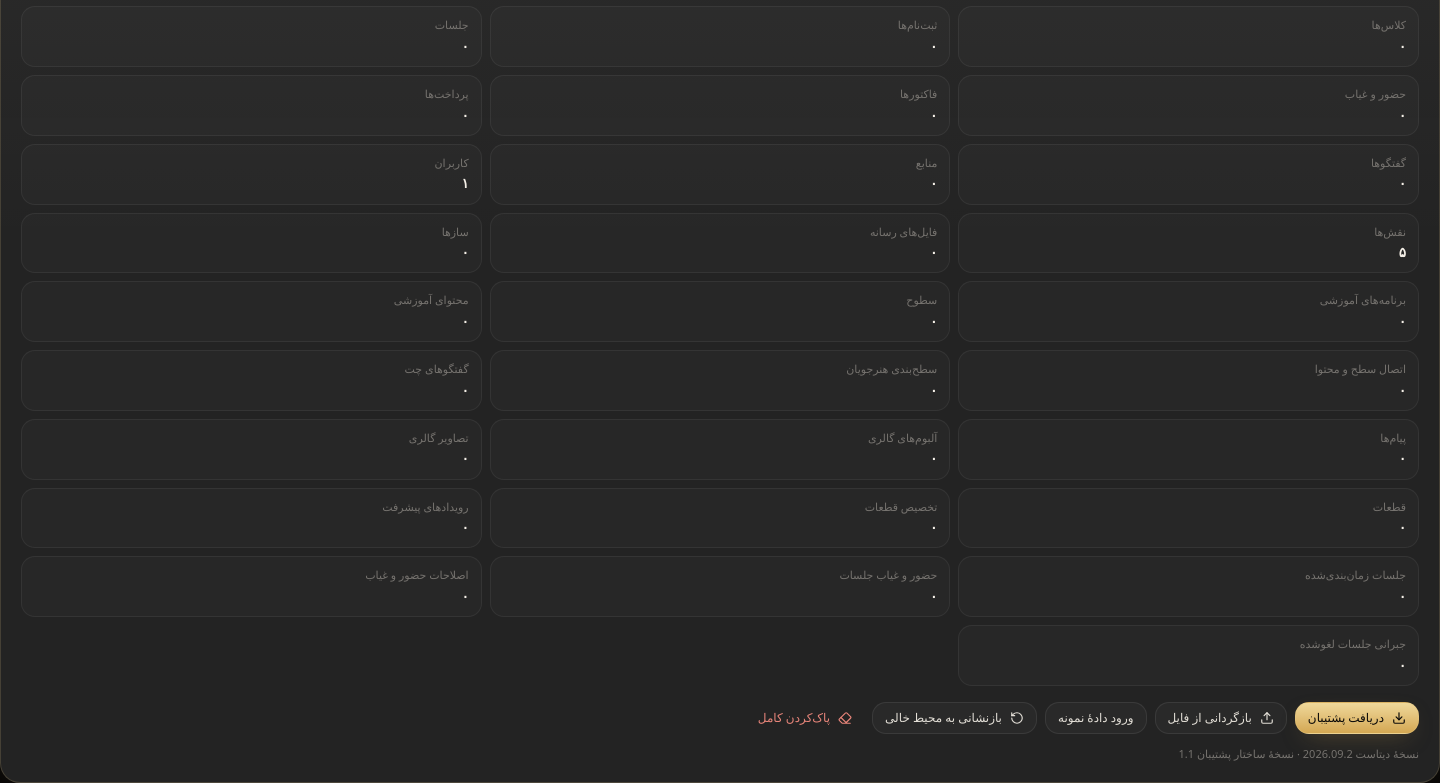
Test: in a customer's EMPTY environment › confirms a clear in terms of this environment, not of demo data
The width and height of the screenshot is (1440, 783).
(page scrolled)
Click the button "پاک‌کردن کامل".
click(805, 718)  # box [746,702,864,734]
(page scrolled)
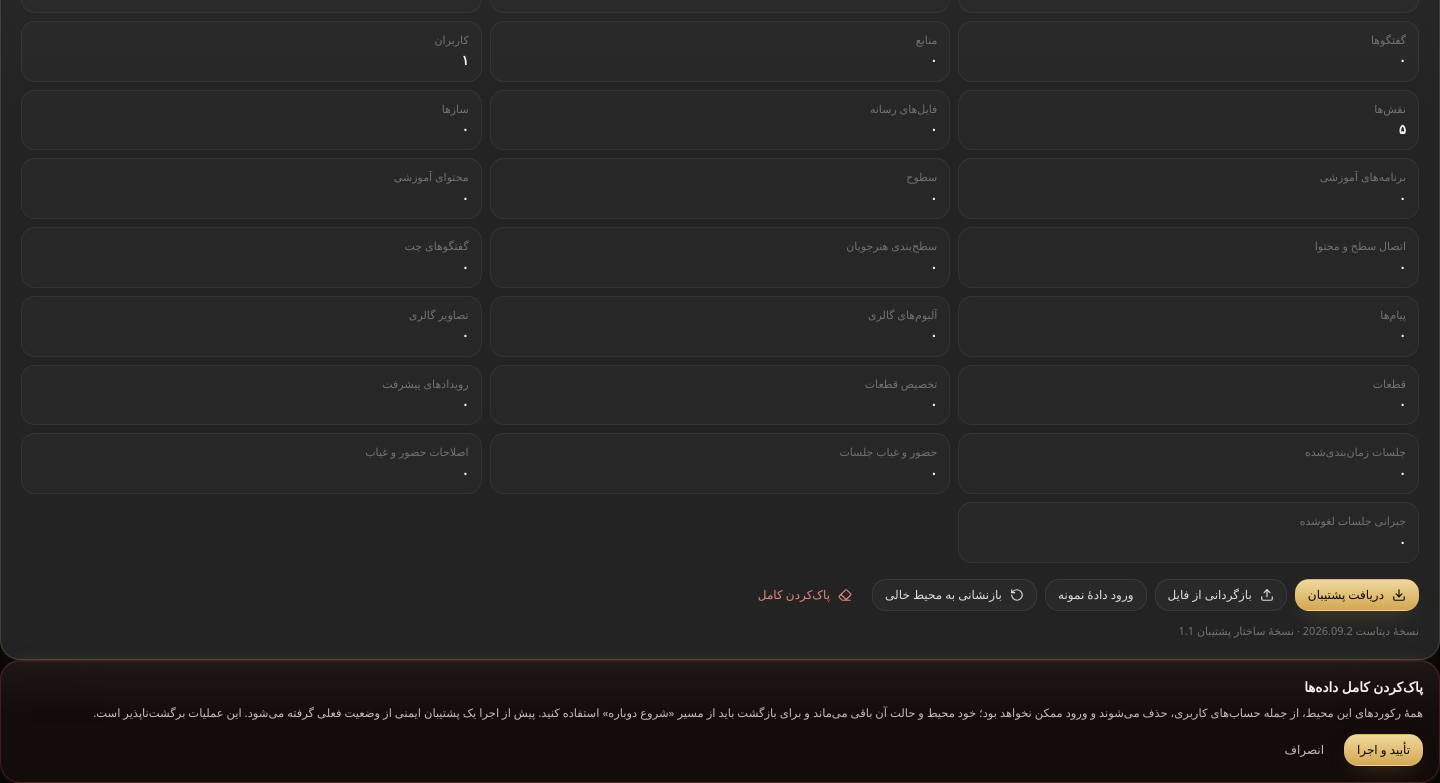
Check: the text "پاک‌کردن کامل داده‌ها" is shown, box [1304,678,1423,696]
Check: the text "همهٔ رکوردهای این محیط" is shown, box [538,705,1423,720]
Check: the text "حساب‌های کاربری" is shown, box [538,705,1423,720]
